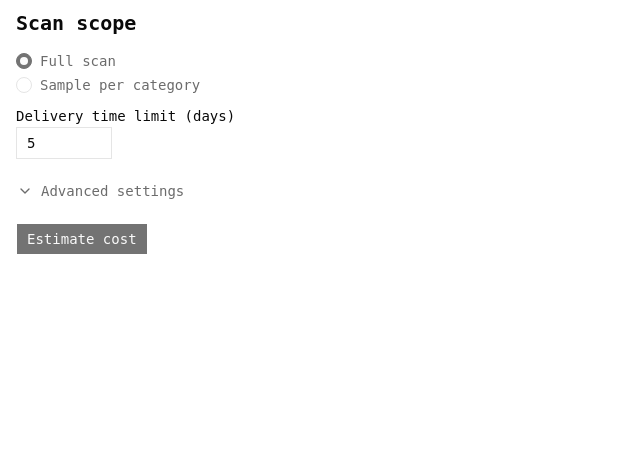
ScopeEstimateStep › does not show the overlap line when overlapping_count is zero
The width and height of the screenshot is (641, 470).
What coordinates should you click on to do the following:
click the button "Estimate cost"
I would click on:
 (82, 239)
Its box is [16,223,148,255].
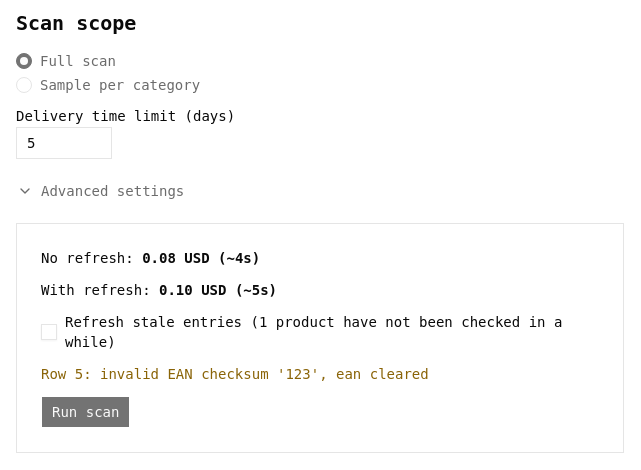
Check: the text "No refresh: 0.08 USD (~4s)" is shown, box [41,250,260,266]
